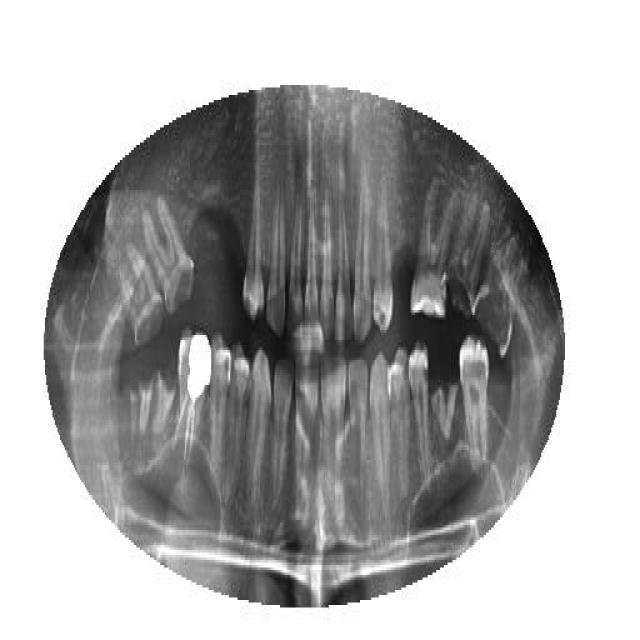Cavity: (143, 197, 195, 315), (442, 202, 490, 320), (117, 242, 165, 350), (471, 252, 515, 358), (429, 363, 460, 445), (152, 355, 174, 440), (139, 355, 155, 440)
Implant: (172, 330, 212, 482)
